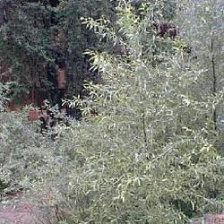neutral: (7, 5, 220, 219)
